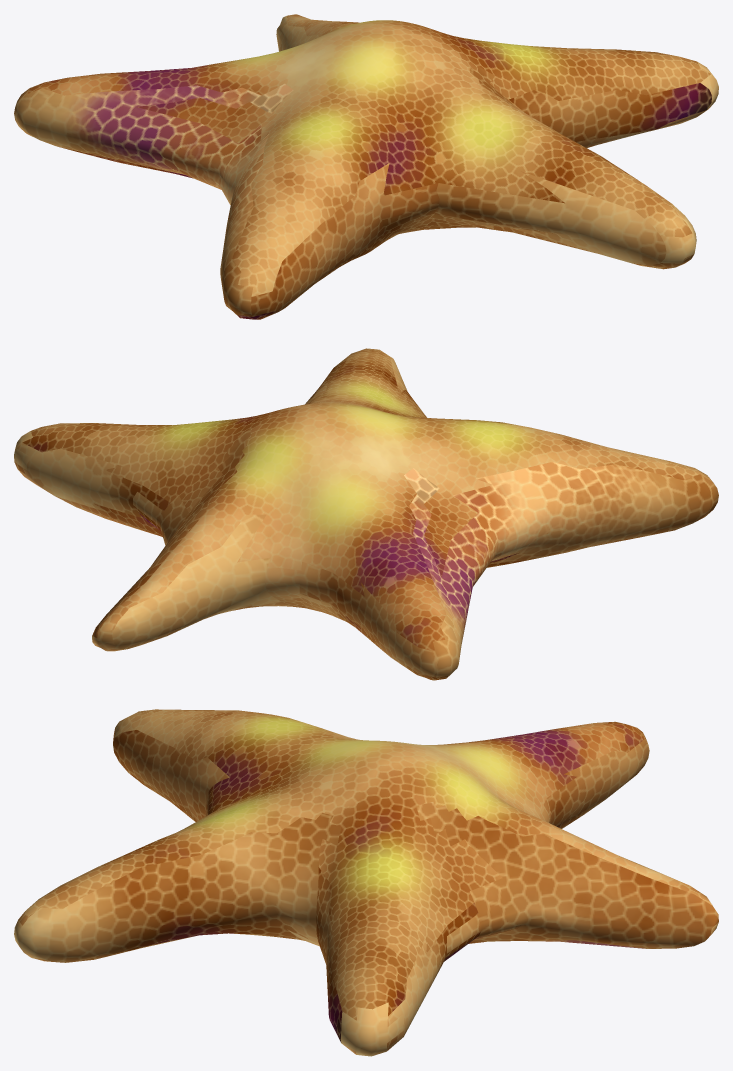
File: Starfish FBX.fbx
3 renders of one model, top to bottom at view 1: azimuth 30°, elevation 25°; view 2: azimuth 150°, elevation 25°; view 3: azimuth 270°, elevation 25°, orthographic. The views are drawn at different scales.
Visible parts, largest first — view 1: pSphere1; view 2: pSphere1; view 3: pSphere1.
Part boxes in pixels (x1=…): pSphere1: x1=14, y1=14, x2=718, y2=319; pSphere1: x1=14, y1=348, x2=718, y2=680; pSphere1: x1=14, y1=709, x2=718, y2=1056.
Size of the model in its own units: 27.67 by 7.13 by 27.41.
Materials: 1 (1 with a texture image).
